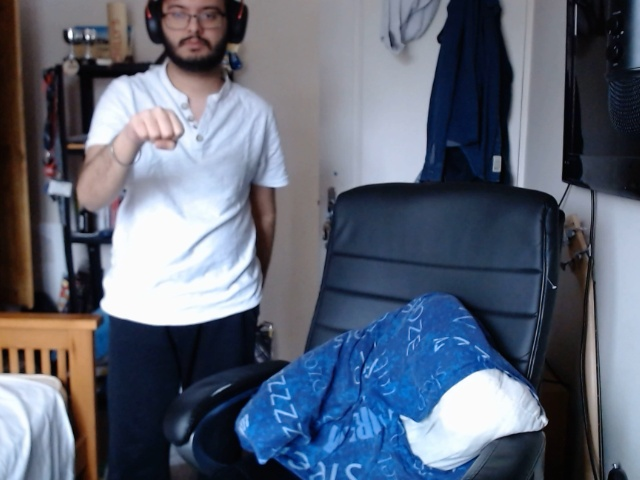Yes: (126, 101, 188, 157)
